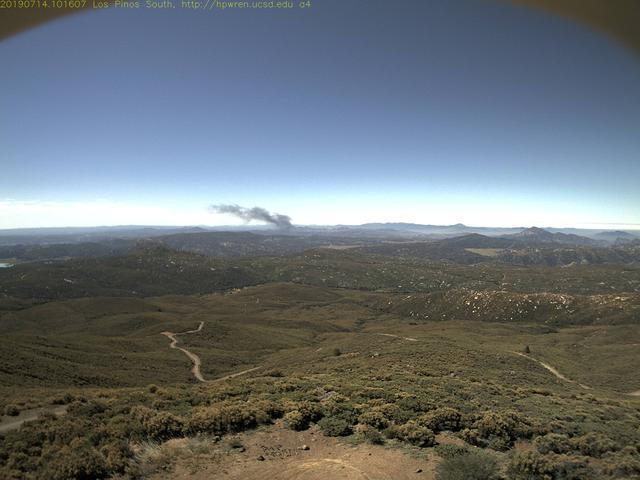Smoke: (209, 197, 298, 234)
